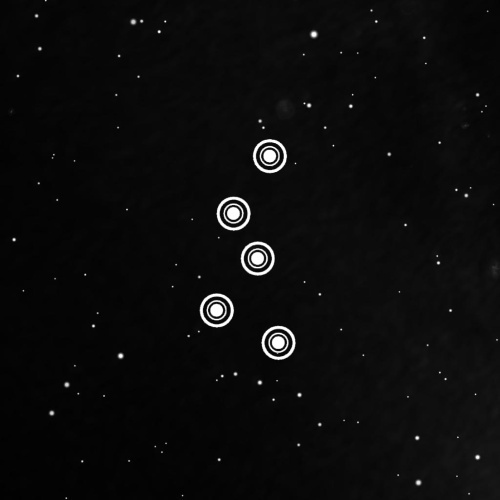cassiopeia: (186, 127, 306, 375)
